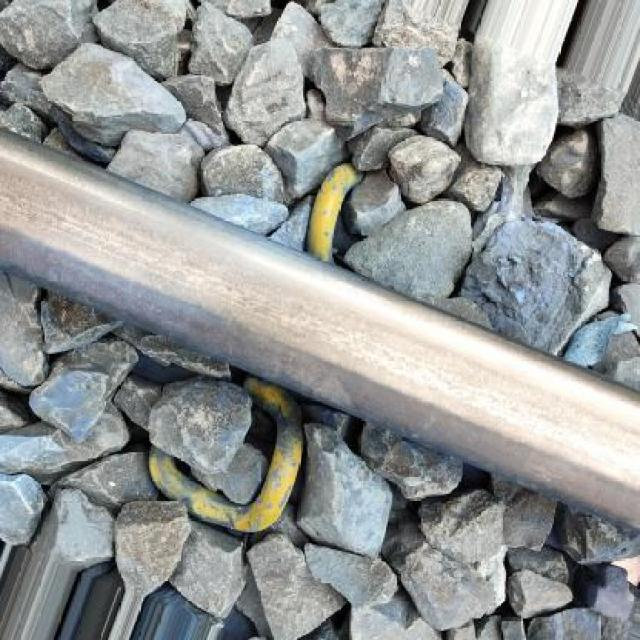non-defective: (4, 71, 640, 632)
